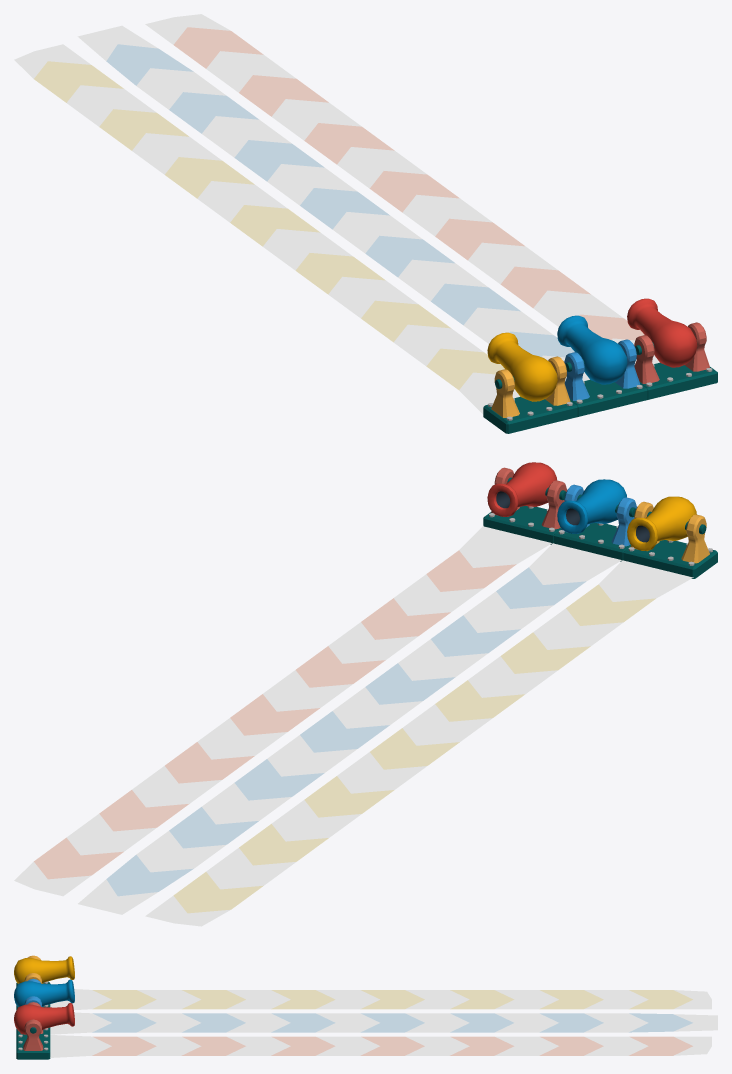
File: Cannons.fbx
The picture shows the model from 3 angles, top to bottom: view 1: azimuth 30°, elevation 25°; view 2: azimuth 150°, elevation 25°; view 3: azimuth 270°, elevation 25°; orthographic projection. The views are drawn at different scales.
Visible parts, largest first — view 1: Yellow_road, Red_road, Blue_road, standYellow, standRed, standBlue, cannon_blue, cannon_yellow, cannon_red; view 2: Yellow_road, Red_road, Blue_road, standYellow, standRed, standBlue, cannon_yellow, cannon_blue, cannon_red; view 3: Red_road, Blue_road, Yellow_road, standRed, cannon_red, cannon_yellow, cannon_blue.
Part boxes in pixels (<box>): Yellow_road: <box>14,44,519,414</box>; Red_road: <box>145,14,659,364</box>; Blue_road: <box>77,25,589,381</box>; standYellow: <box>483,356,577,433</box>; standRed: <box>634,322,717,399</box>; standBlue: <box>564,339,647,416</box>; cannon_blue: <box>557,315,627,384</box>; cannon_yellow: <box>487,332,557,401</box>; cannon_red: <box>627,298,697,367</box>; Yellow_road: <box>145,560,693,926</box>; Red_road: <box>14,526,551,896</box>; Blue_road: <box>78,543,621,914</box>; standYellow: <box>623,501,717,578</box>; standRed: <box>483,467,566,544</box>; standBlue: <box>553,484,636,561</box>; cannon_yellow: <box>627,496,696,551</box>; cannon_blue: <box>557,479,626,533</box>; cannon_red: <box>487,462,556,516</box>; Red_road: <box>50,1035,711,1057</box>; Blue_road: <box>50,1012,717,1034</box>; Yellow_road: <box>50,989,711,1010</box>; standRed: <box>16,1002,50,1059</box>; cannon_red: <box>14,1003,74,1034</box>; cannon_yellow: <box>14,956,74,983</box>; cannon_blue: <box>14,979,74,1006</box>.
Bounding box in the file's own units: 7.59 × 2.17 × 31.94.
